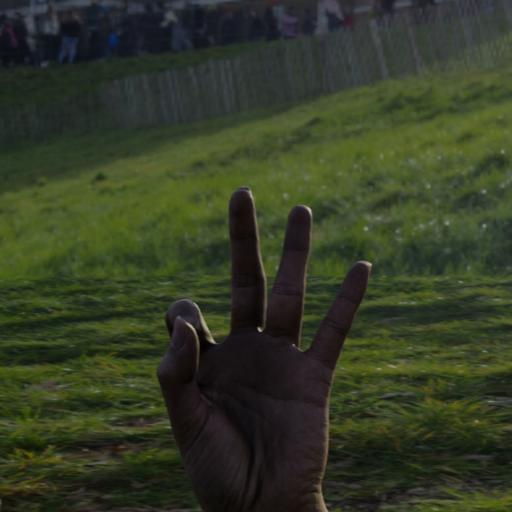F: (153, 181, 378, 512)
